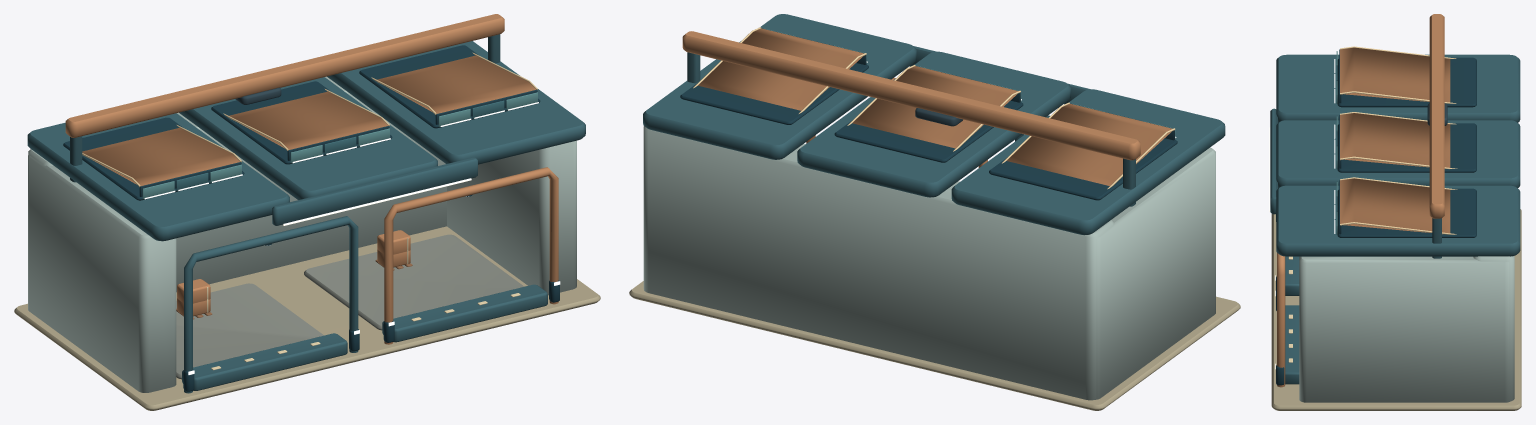
File: harbor_terminal.glb
3 renders of one model, left to right at view 1: azimuth 30°, elevation 25°; view 2: azimuth 150°, elevation 25°; view 3: azimuth 270°, elevation 25°, orthographic. The views are drawn at different scales.
Visible parts, largest first — view 1: HarborTerminal; view 2: HarborTerminal; view 3: HarborTerminal.
Boxes of the visible parts, bbox=[...] form: HarborTerminal: bbox=[14, 14, 600, 410]; HarborTerminal: bbox=[629, 14, 1240, 410]; HarborTerminal: bbox=[1269, 14, 1521, 410].
Bounding box in the file's own units: 13.18 × 6.17 × 6.99.
